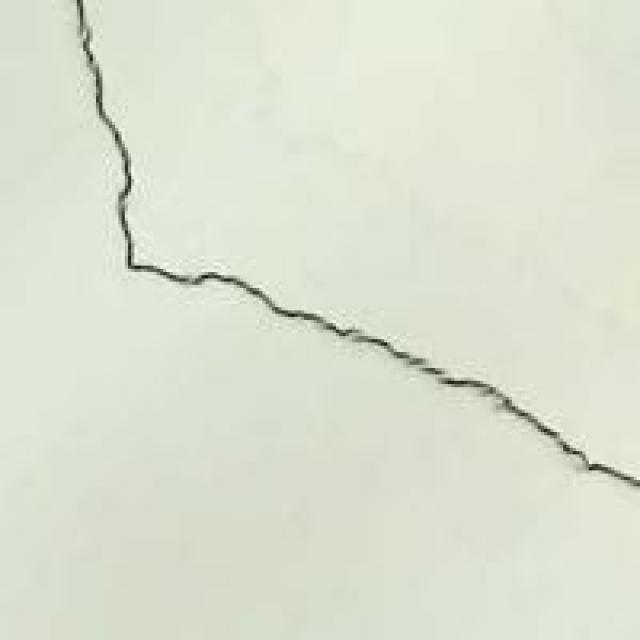Crack: (48, 0, 637, 502)
